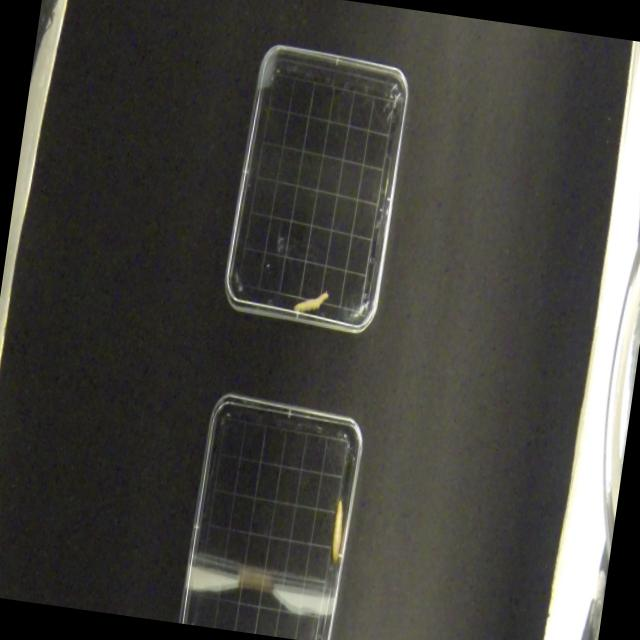larva: (293, 286, 330, 318)
